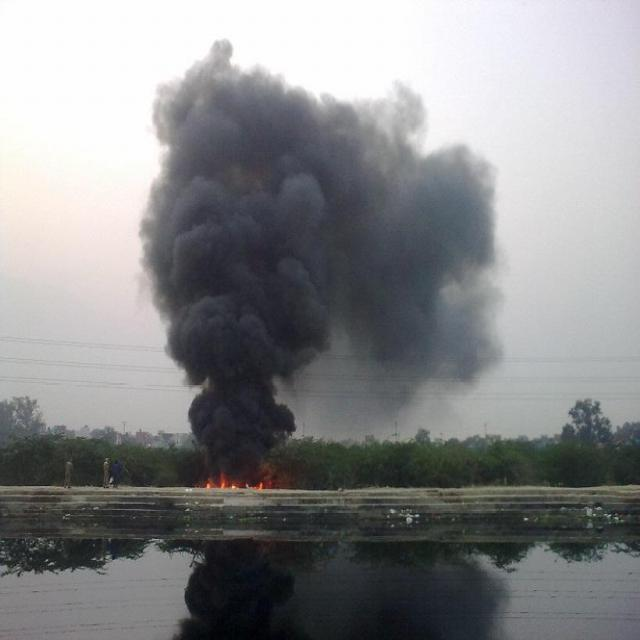Fire: (200, 476, 238, 489), (247, 478, 266, 491)
